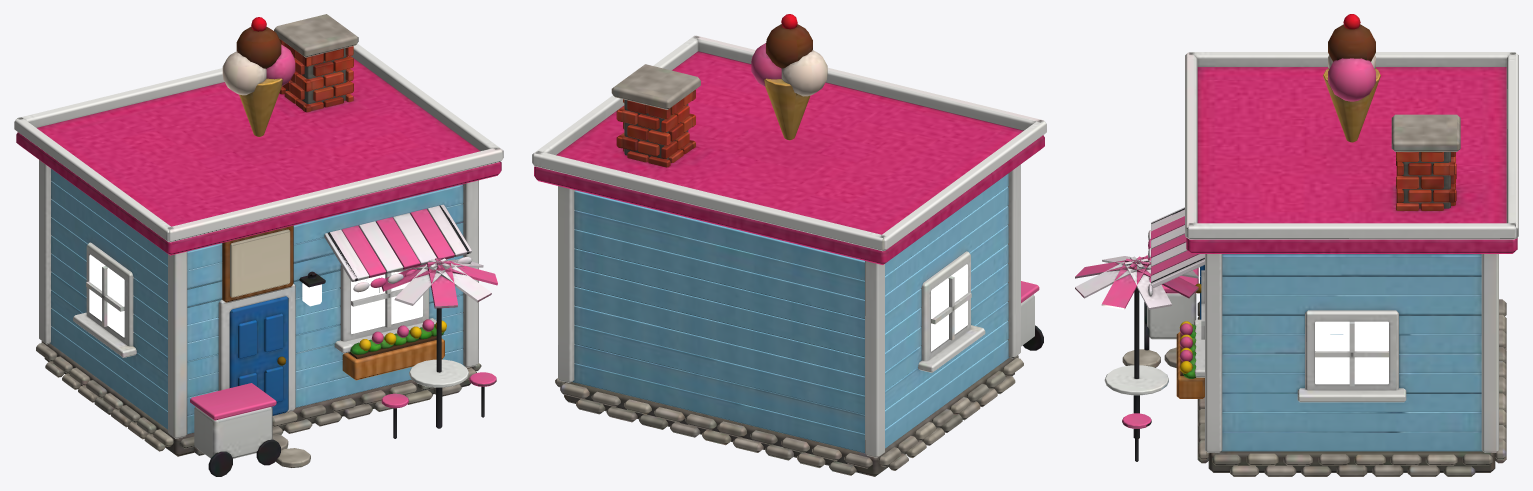
Rendered from ice_cream.glb.
3 views of the same model, side by side, from view 1: azimuth 30°, elevation 25°; view 2: azimuth 150°, elevation 25°; view 3: azimuth 270°, elevation 25° (orthographic). The views are drawn at different scales.
Visible parts, largest first — view 1: ice_cream; view 2: ice_cream; view 3: ice_cream.
Boxes of the visible parts, box(x1,y1,x2,y2) form: ice_cream: box(14, 14, 503, 476); ice_cream: box(532, 14, 1046, 476); ice_cream: box(1075, 14, 1518, 476).
Size of the model in its own units: 1.69 by 1.71 by 1.8.
1 material, 1 textured.
